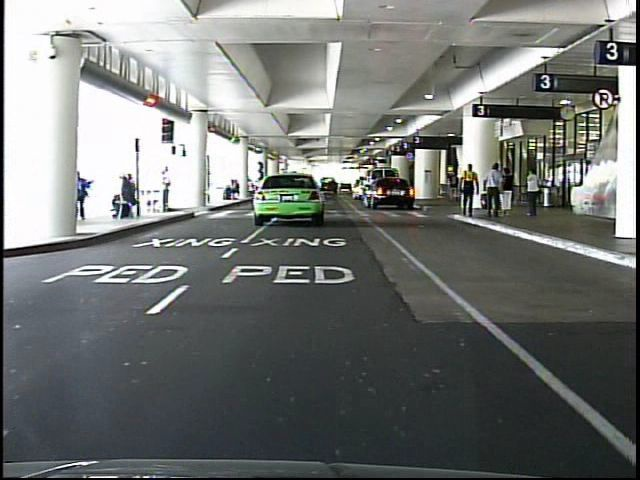person: (522, 164, 549, 224), (458, 161, 482, 225), (482, 162, 503, 219), (158, 165, 179, 217), (500, 165, 516, 221), (448, 167, 461, 205)
